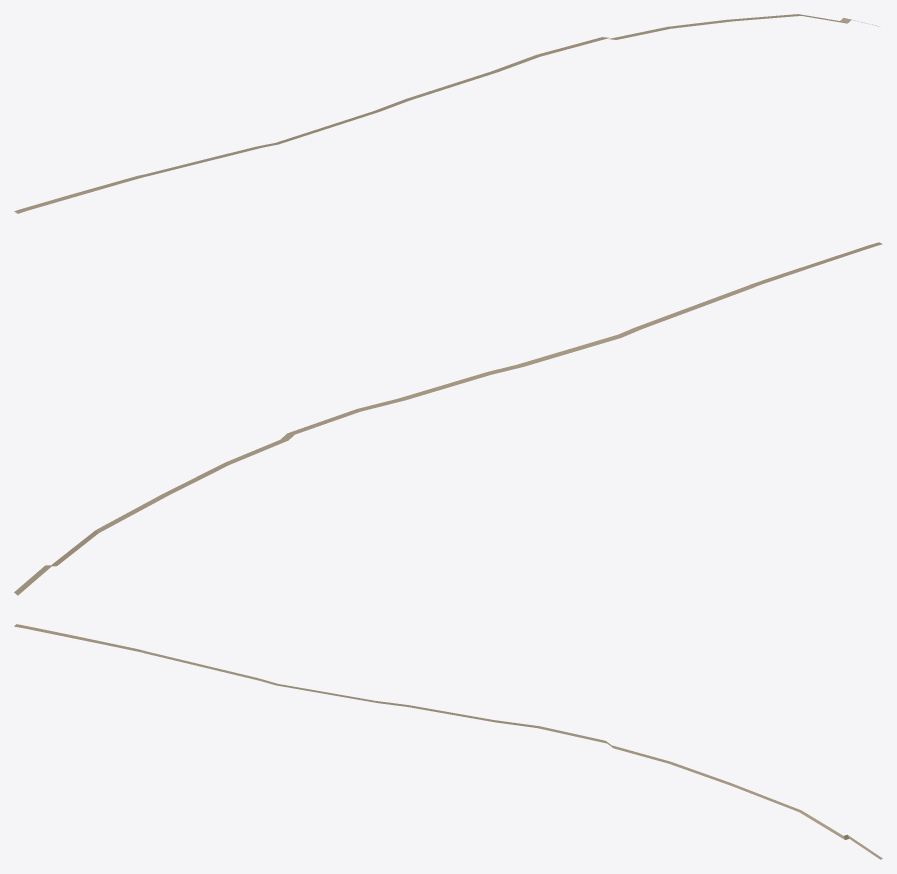
The model's file is farm_-5_-8_track.glb.
The picture shows the model from 3 angles, top to bottom: view 1: azimuth 30°, elevation 25°; view 2: azimuth 210°, elevation 25°; view 3: azimuth 330°, elevation 25°; orthographic projection. The views are drawn at different scales.
Parts seen in each view (by area): view 1: geometry_0; view 2: geometry_0; view 3: geometry_0.
Part boxes in pixels (x1,y1,x2,y2): geometry_0: (14, 14, 879, 213); geometry_0: (14, 242, 882, 595); geometry_0: (14, 624, 882, 859).
Size of the model in its own units: 530 by 45.71 by 61.49.
